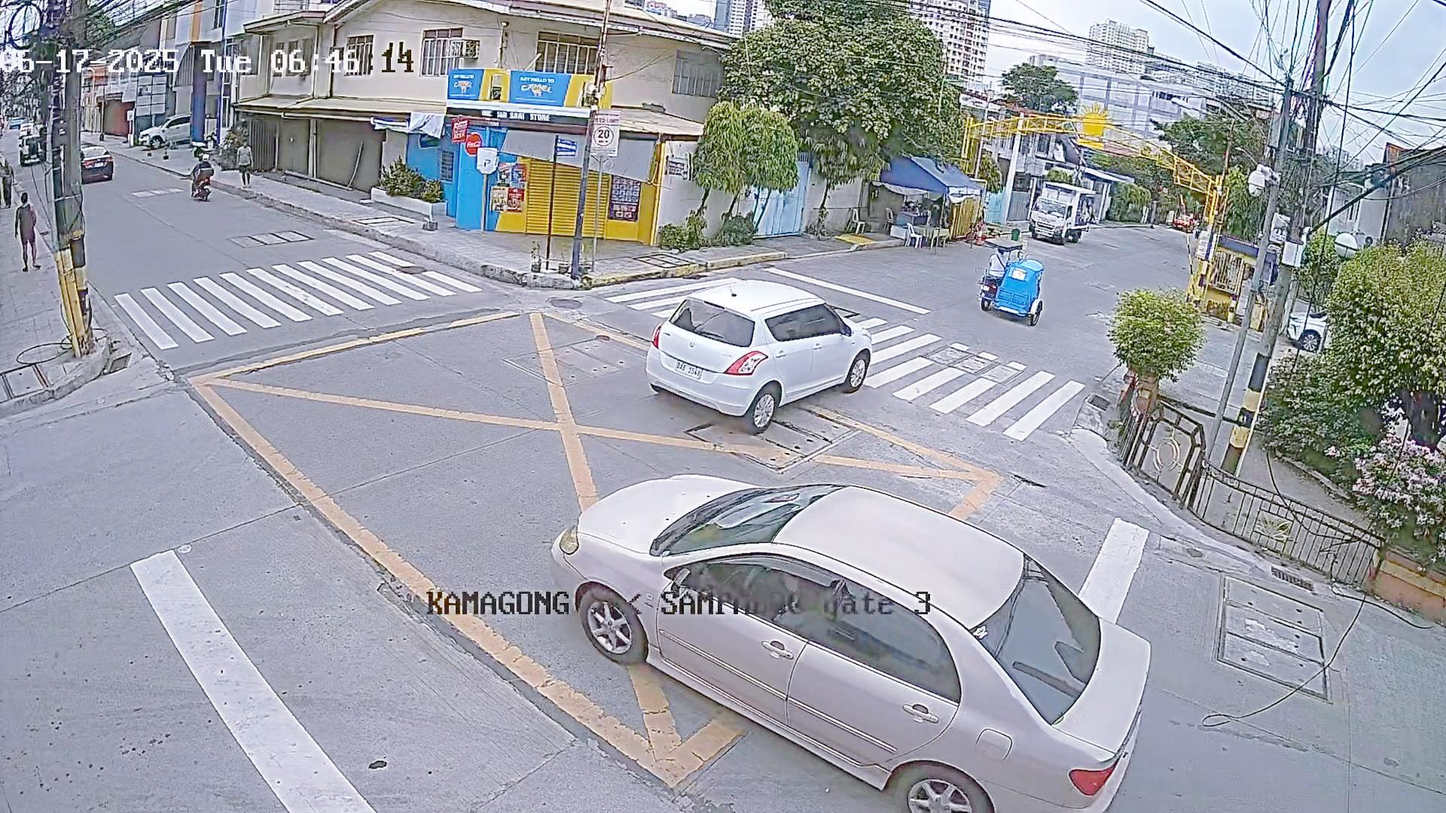Car: (514, 413, 1187, 813), (628, 261, 910, 434)
Motor: (178, 144, 229, 211)
